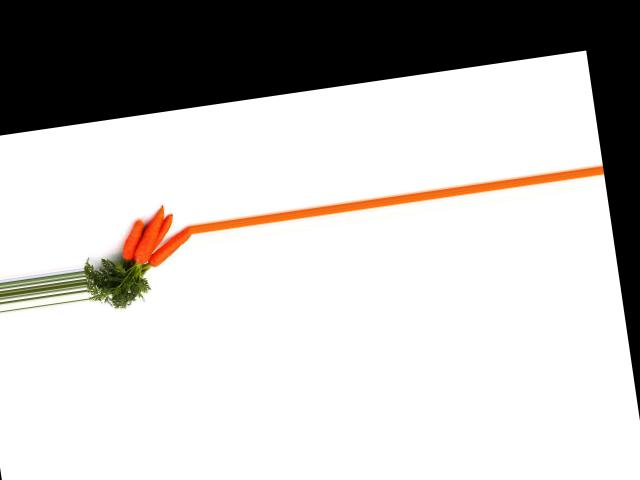carrot: (116, 214, 150, 265)
